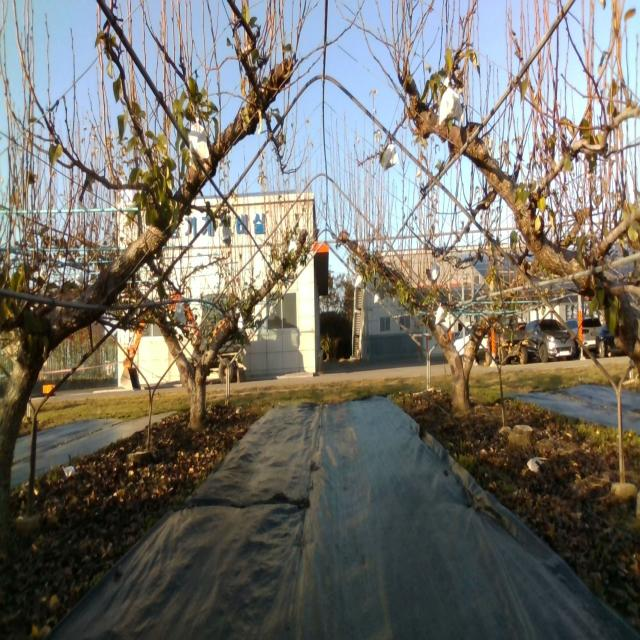pearbags: (439, 77, 463, 126), (187, 118, 209, 161), (384, 139, 398, 170), (220, 224, 232, 248), (174, 303, 187, 325), (435, 303, 446, 325)
